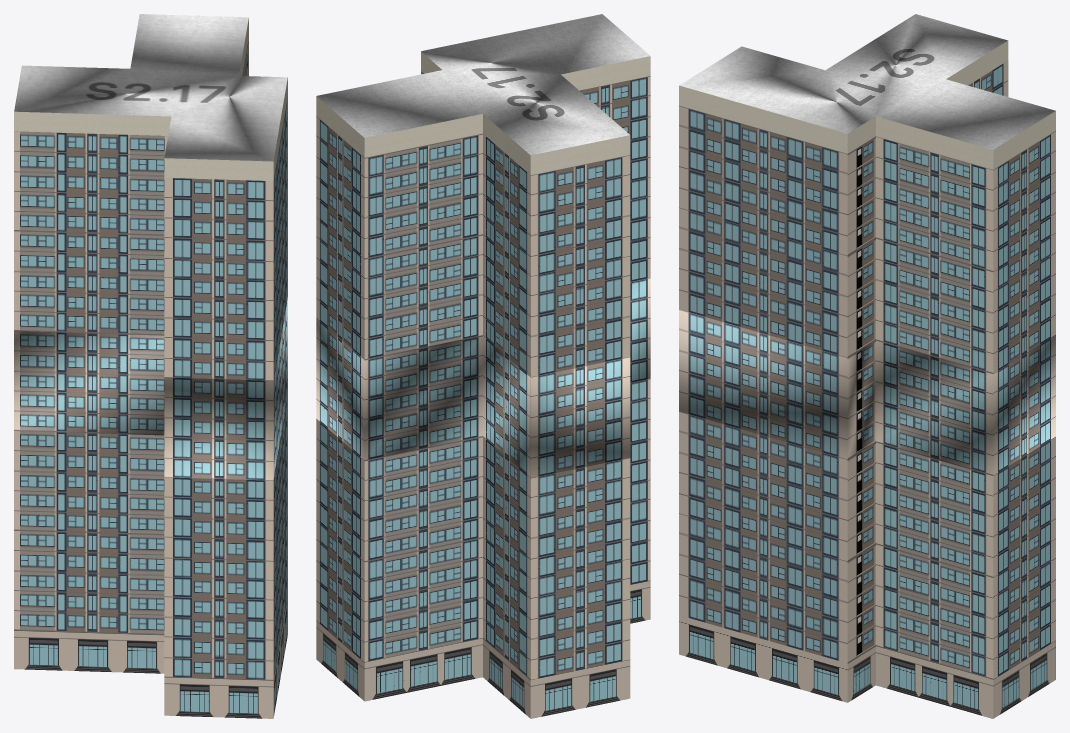
3 renders of one model, left to right at view 1: azimuth 30°, elevation 25°; view 2: azimuth 150°, elevation 25°; view 3: azimuth 270°, elevation 25°, orthographic. The views are drawn at different scales.
Parts seen in each view (by area): view 1: Asset3DLoader.sceneRoot; view 2: Asset3DLoader.sceneRoot; view 3: Asset3DLoader.sceneRoot.
Part boxes in pixels (x1,y1,x2,y2): Asset3DLoader.sceneRoot: (14,14,287,718); Asset3DLoader.sceneRoot: (316,14,650,718); Asset3DLoader.sceneRoot: (679,14,1055,718).
Bounding box in the file's own units: 48.91 × 95.5 × 57.32.
Materials: 1 (1 with a texture image).
